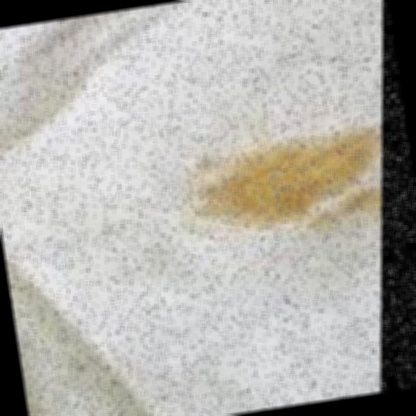coffee: (198, 113, 395, 243)
